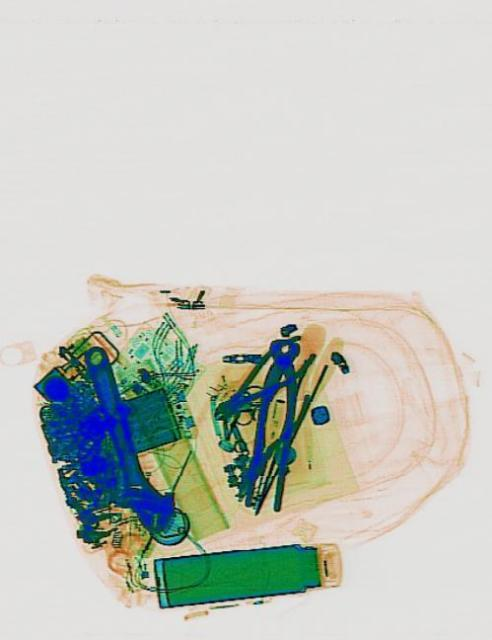Pliers: (203, 324, 315, 434), (241, 332, 305, 512)
Wrench: (64, 332, 179, 540)
